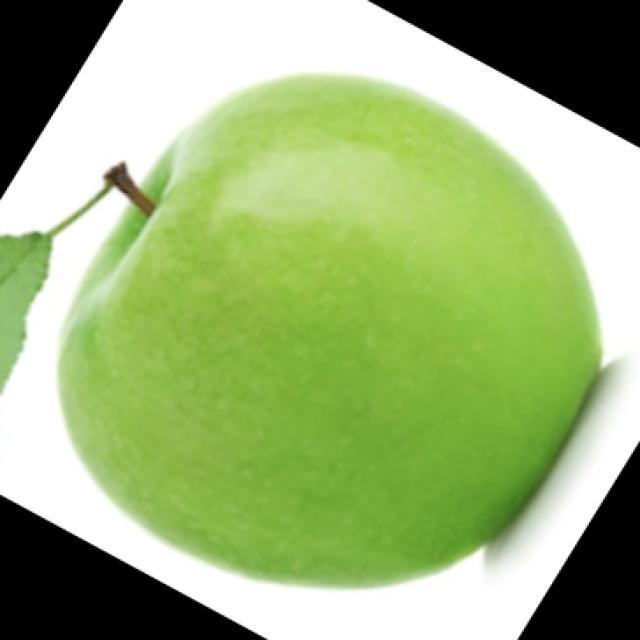Apple: (54, 70, 603, 590)
